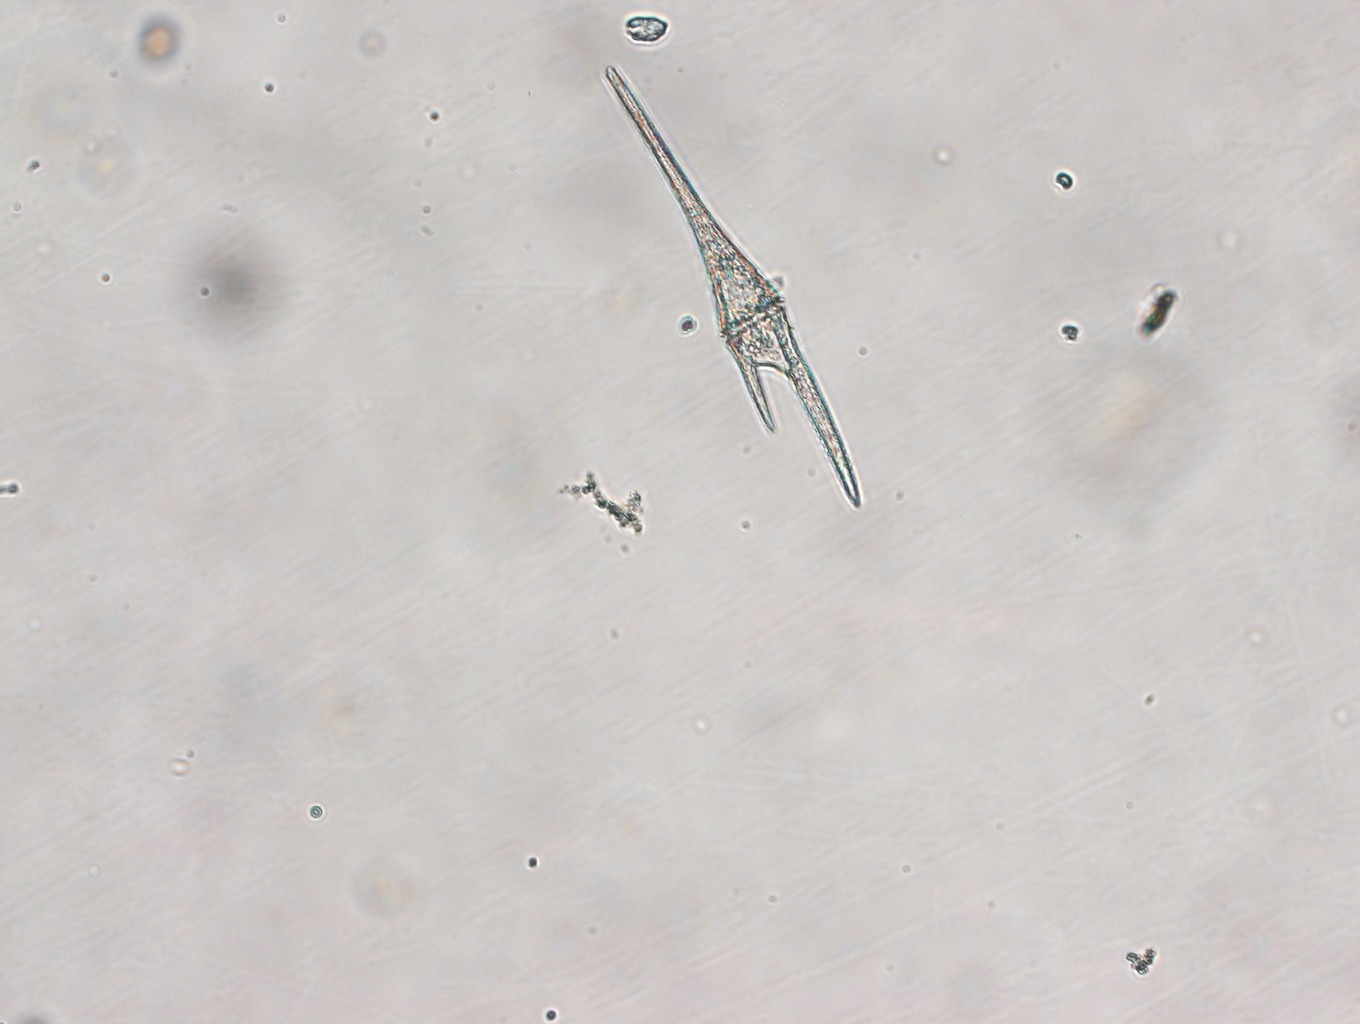ceratium furca: (599, 61, 863, 511)
